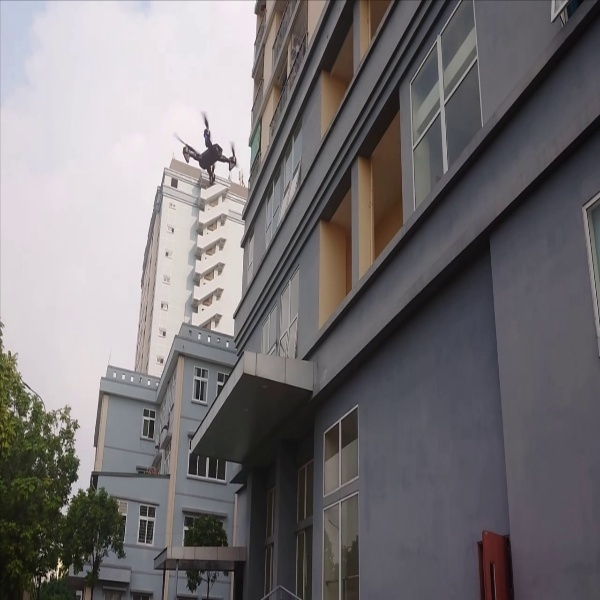drone: (167, 105, 244, 189)
